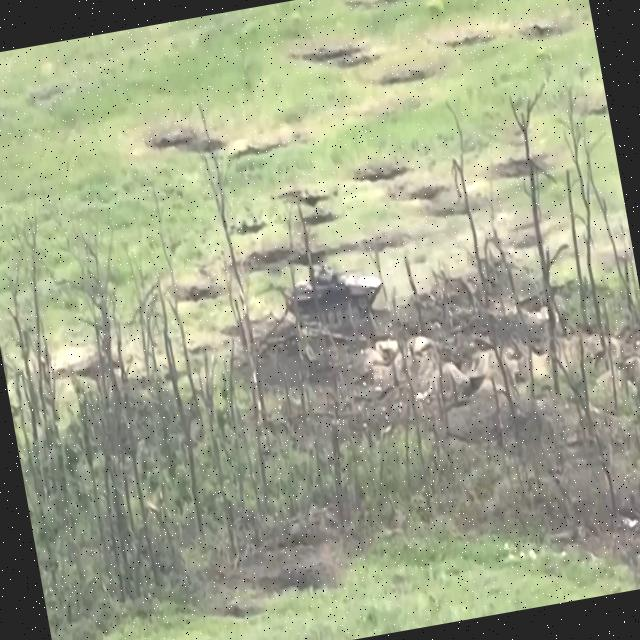AIFV: (279, 252, 390, 336)
